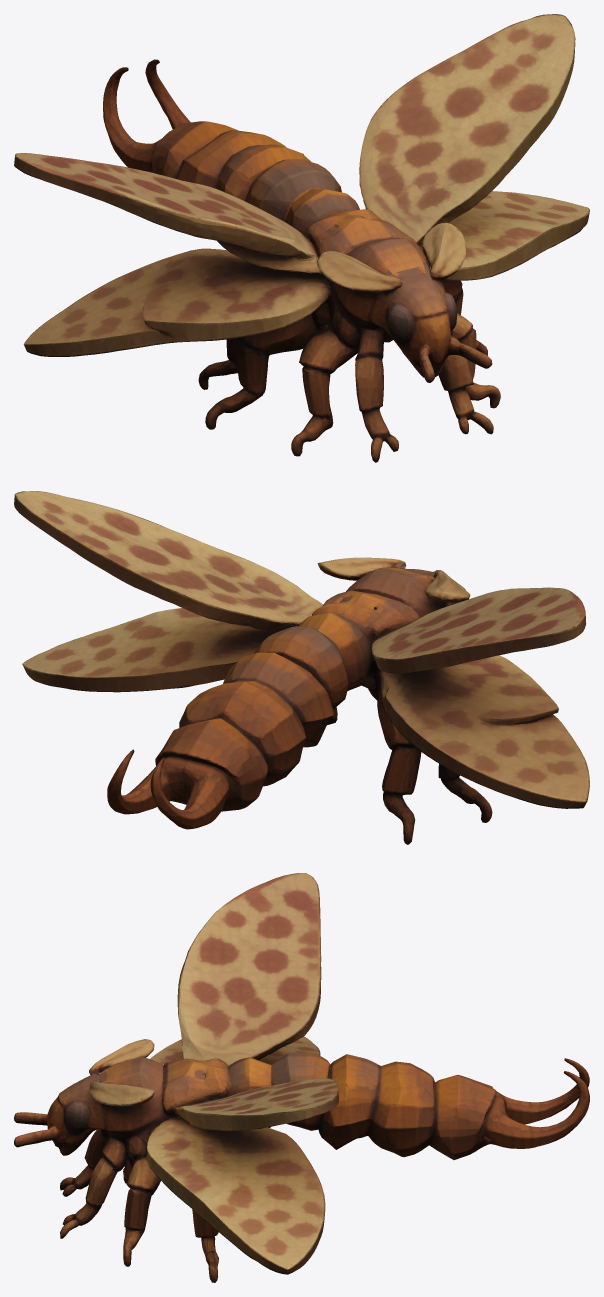
3 views of the same model, one above another, from view 1: azimuth 30°, elevation 25°; view 2: azimuth 150°, elevation 25°; view 3: azimuth 270°, elevation 25° (orthographic). The views are drawn at different scales.
Parts seen in each view (by area): view 1: world; view 2: world; view 3: world.
Part boxes in pixels (x1=…): world: x1=14, y1=14, x2=589, y2=462; world: x1=14, y1=491, x2=589, y2=844; world: x1=14, y1=873, x2=589, y2=1282.
Size of the model in its own units: 0.1455 by 0.0669 by 0.148.
1 material, 1 textured.
